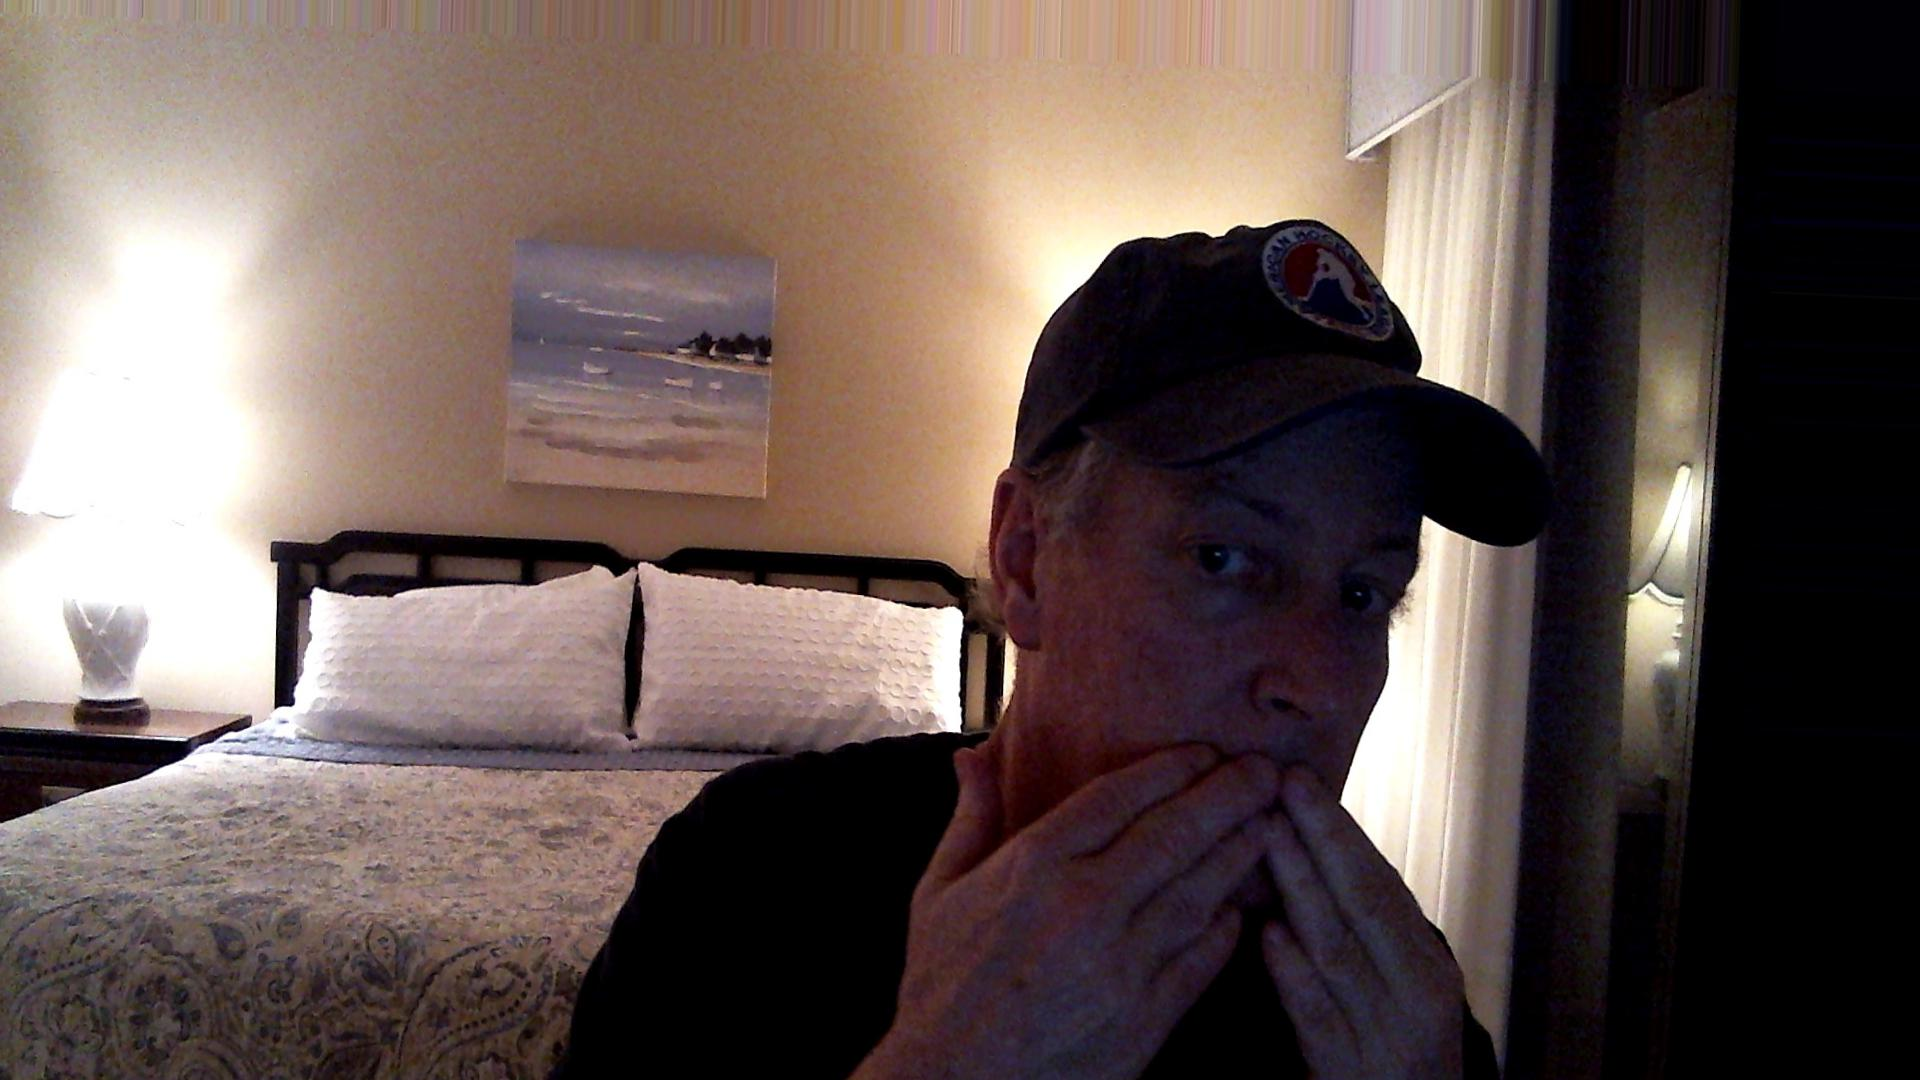Thank You: (858, 717, 1491, 1072)
